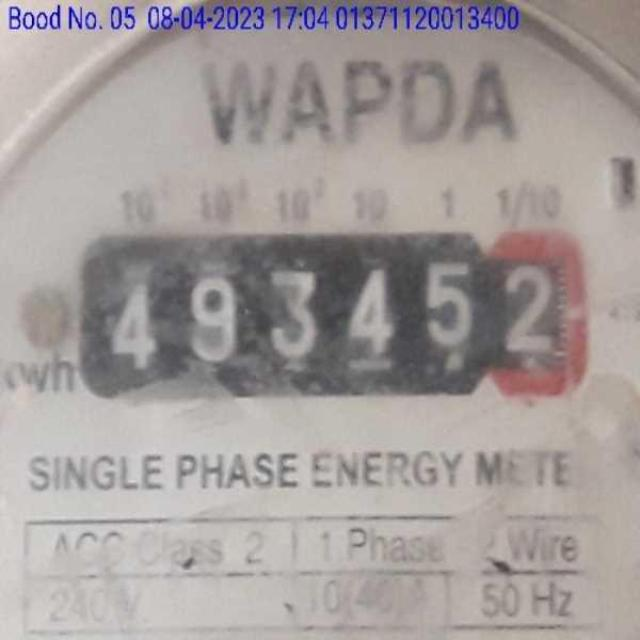2: (506, 255, 564, 357)
3: (266, 270, 326, 372)
4: (107, 266, 163, 384), (348, 264, 404, 370)
5: (423, 254, 481, 355)
9: (176, 266, 248, 380)
analog meter: (87, 235, 594, 402)
